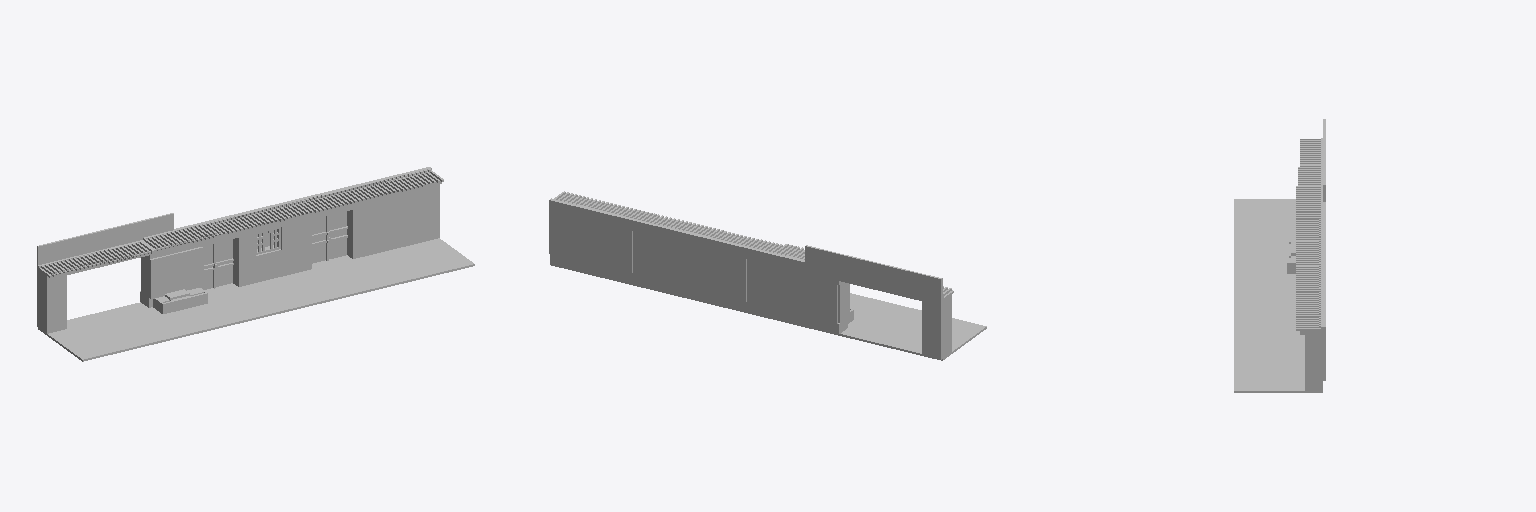
The model's file is escenario (1)-13.obj.
The picture shows the model from 3 angles: view 1: azimuth 30°, elevation 25°; view 2: azimuth 150°, elevation 25°; view 3: azimuth 270°, elevation 25°; orthographic projection.
Visible parts, largest first — view 1: object 1; view 2: object 1; view 3: object 1.
Boxes of the visible parts, <box> form: object 1: <box>37,167,474,361</box>; object 1: <box>549,191,986,360</box>; object 1: <box>1234,119,1325,392</box>.
Bounding box in the file's own units: 19.9 × 4 × 4.